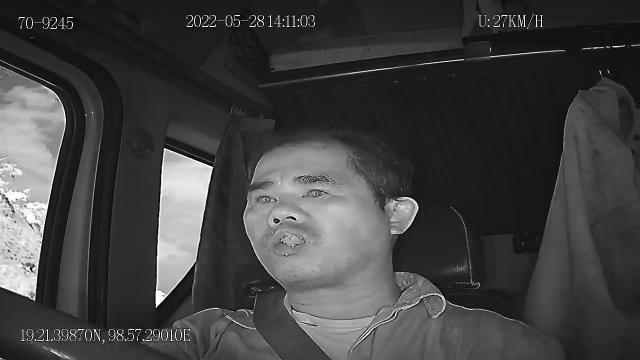SafeDriving: (294, 177, 338, 206), (248, 185, 282, 212)
Seatbelt: (250, 286, 334, 360)
